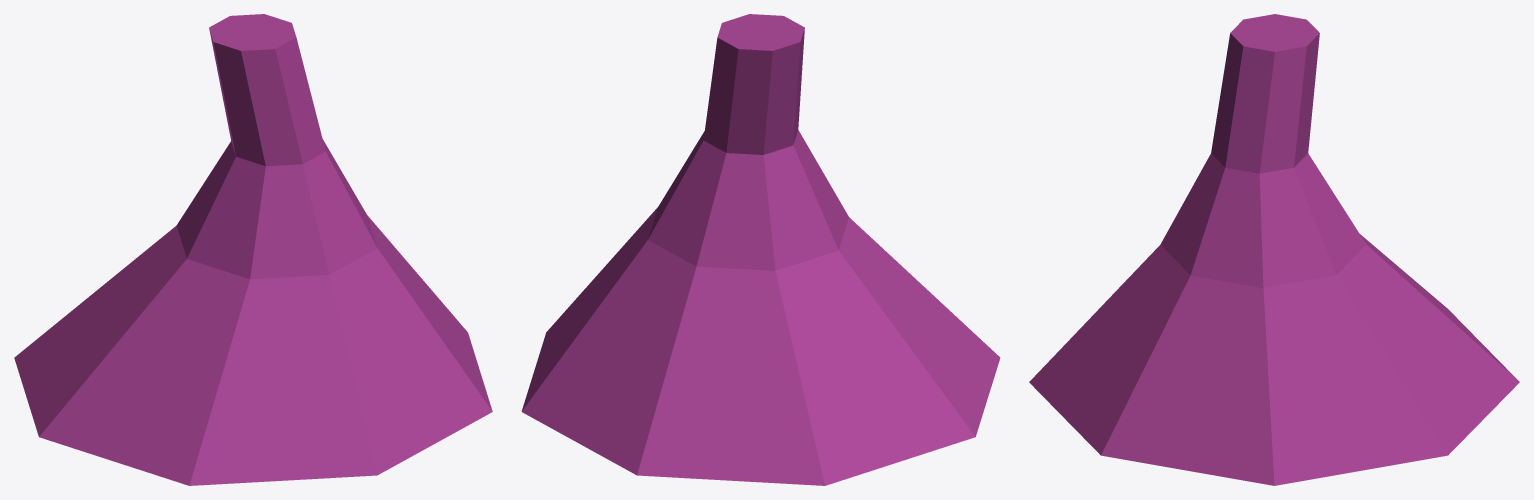
The model's file is SM_Env_Tree_Marsh_04_Collision.fbx.
3 views of the same model, side by side, from view 1: azimuth 30°, elevation 25°; view 2: azimuth 150°, elevation 25°; view 3: azimuth 270°, elevation 25° (orthographic).
Parts seen in each view (by area): view 1: SM_Env_Tree_Marsh_04_Collision; view 2: SM_Env_Tree_Marsh_04_Collision; view 3: SM_Env_Tree_Marsh_04_Collision.
Boxes of the visible parts, bbox=[...] form: SM_Env_Tree_Marsh_04_Collision: bbox=[14, 14, 492, 485]; SM_Env_Tree_Marsh_04_Collision: bbox=[521, 14, 1000, 485]; SM_Env_Tree_Marsh_04_Collision: bbox=[1029, 14, 1519, 485].
Size of the model in its own units: 451 by 353 by 451.
